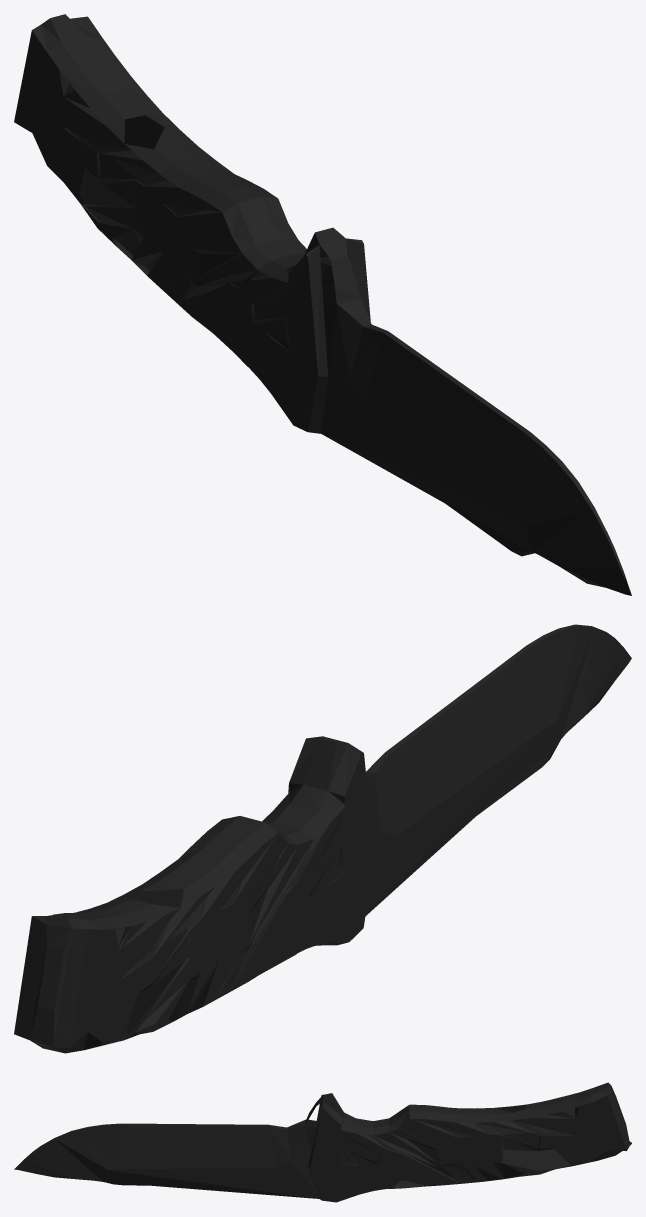
The model's file is model_align.obj.
3 renders of one model, top to bottom at view 1: azimuth 30°, elevation 25°; view 2: azimuth 150°, elevation 25°; view 3: azimuth 270°, elevation 25°, orthographic. The views are drawn at different scales.
Size of the model in its own units: 0.0125 by 0.0462 by 0.2263.
Materials: 1 (1 with a texture image).
